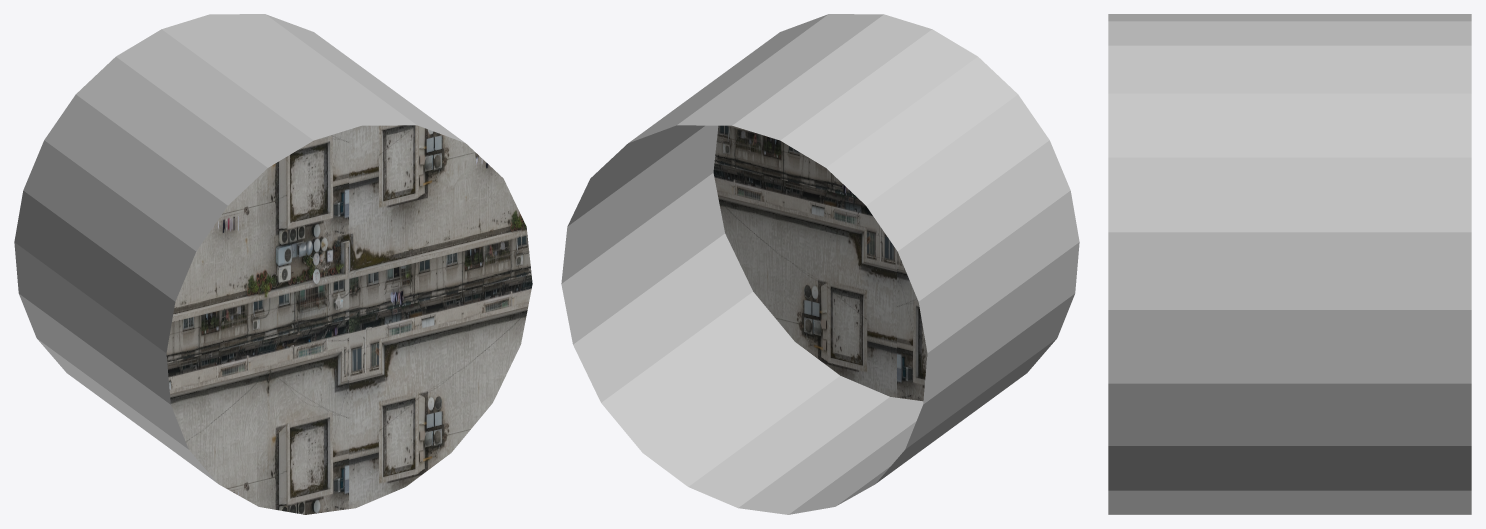
The model's file is geospecific_1902.obj.
The picture shows the model from 3 angles, left to right: view 1: azimuth 30°, elevation 25°; view 2: azimuth 150°, elevation 25°; view 3: azimuth 270°, elevation 25°; orthographic projection. The views are drawn at different scales.
Parts seen in each view (by area): view 1: Building; view 2: Building; view 3: Building.
Part boxes in pixels (box(x1,y1,x2,y2)): Building: box(14, 14, 532, 514); Building: box(561, 14, 1079, 514); Building: box(1108, 14, 1471, 514).
Bounding box in the file's own units: 25.01 × 24.87 × 18.
